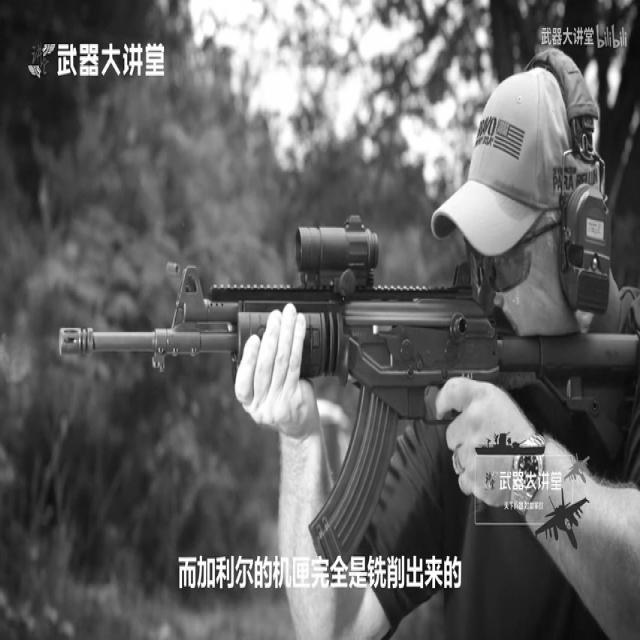Rifle: (46, 126, 640, 640)
